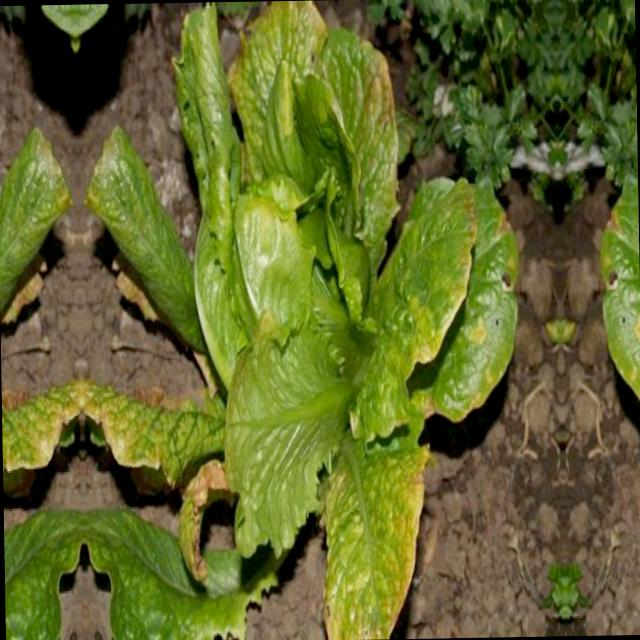healthy: (75, 0, 525, 640), (0, 4, 84, 640), (594, 0, 640, 635)
